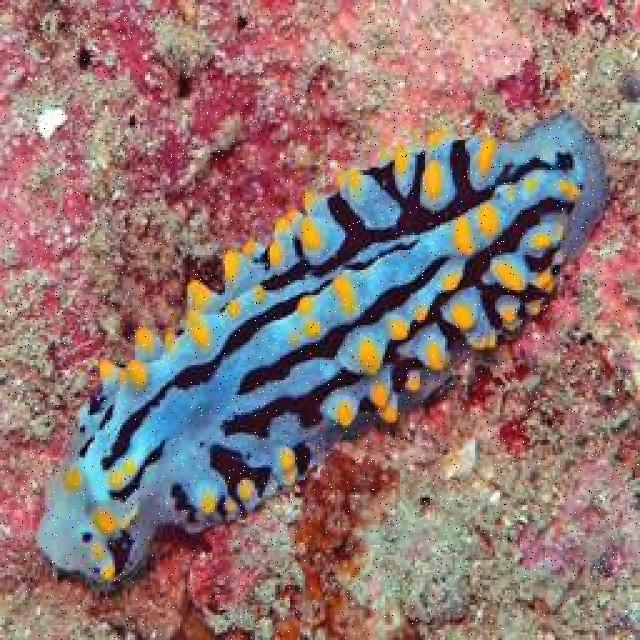reefs: (37, 109, 609, 586)
sea-floor: (35, 108, 638, 584)
